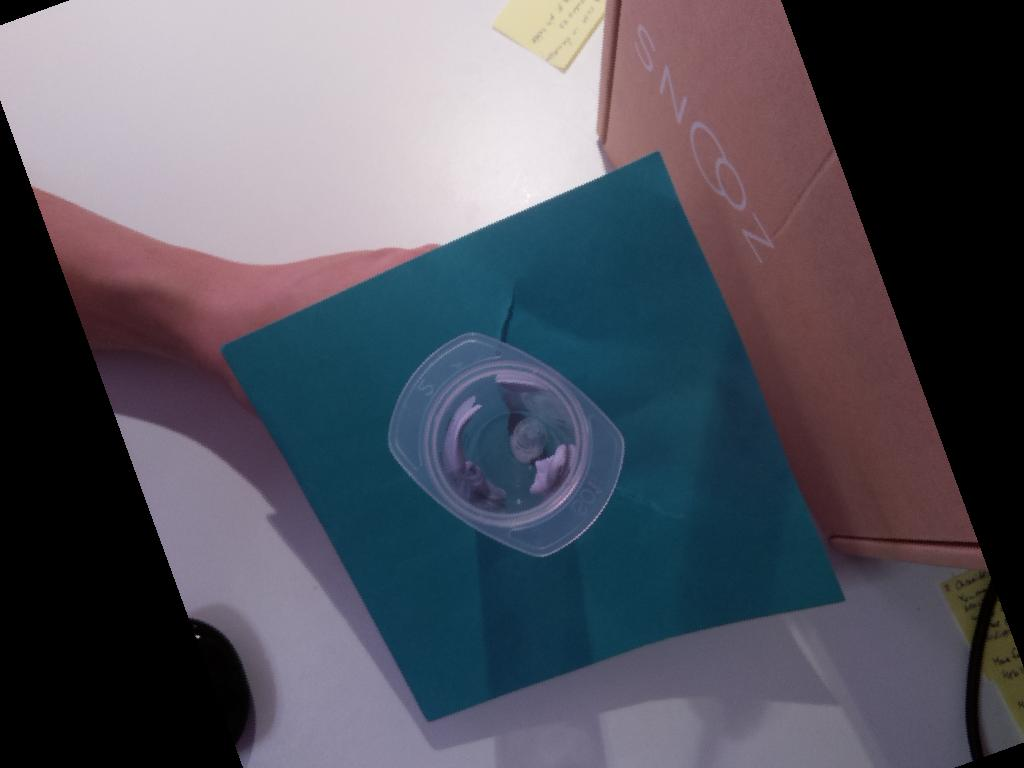dirty: (386, 330, 625, 560)
